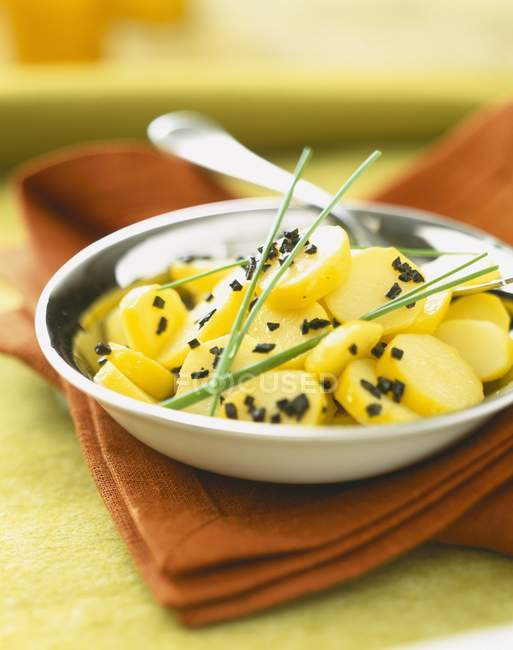boiled potatoes: (130, 275, 455, 386)
